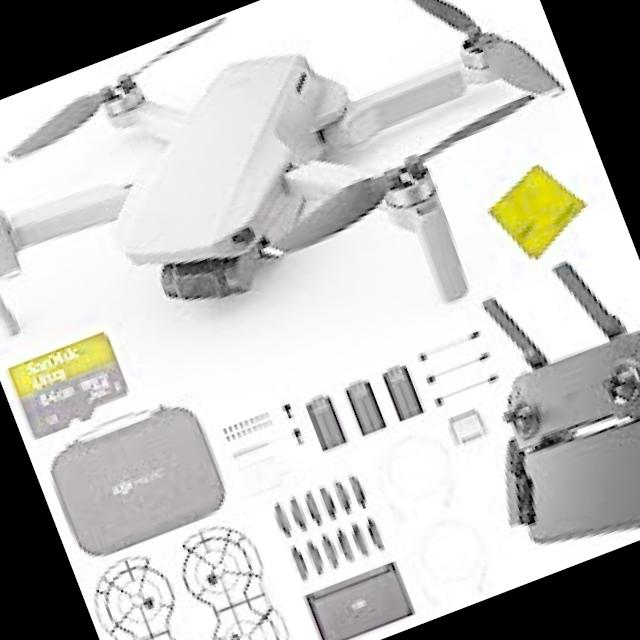drone: (0, 0, 632, 469)
